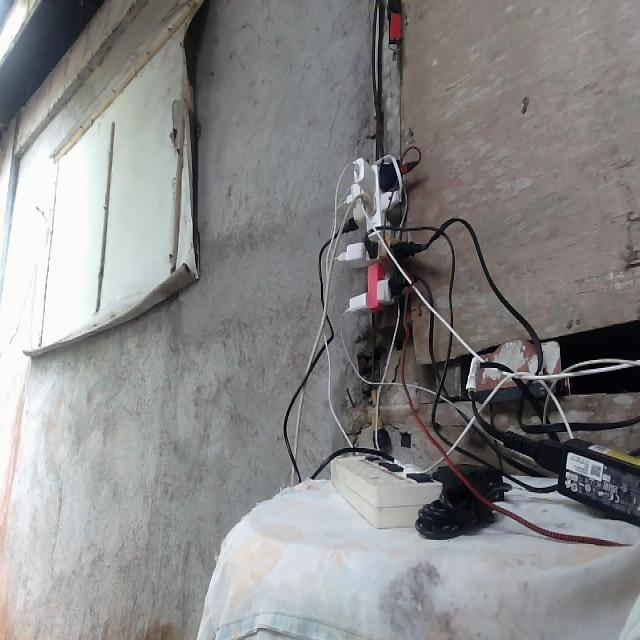-: (336, 155, 415, 313)
